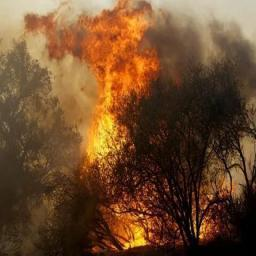Low smoke: (139, 11, 256, 155)
Medium fire: (23, 0, 229, 256)
